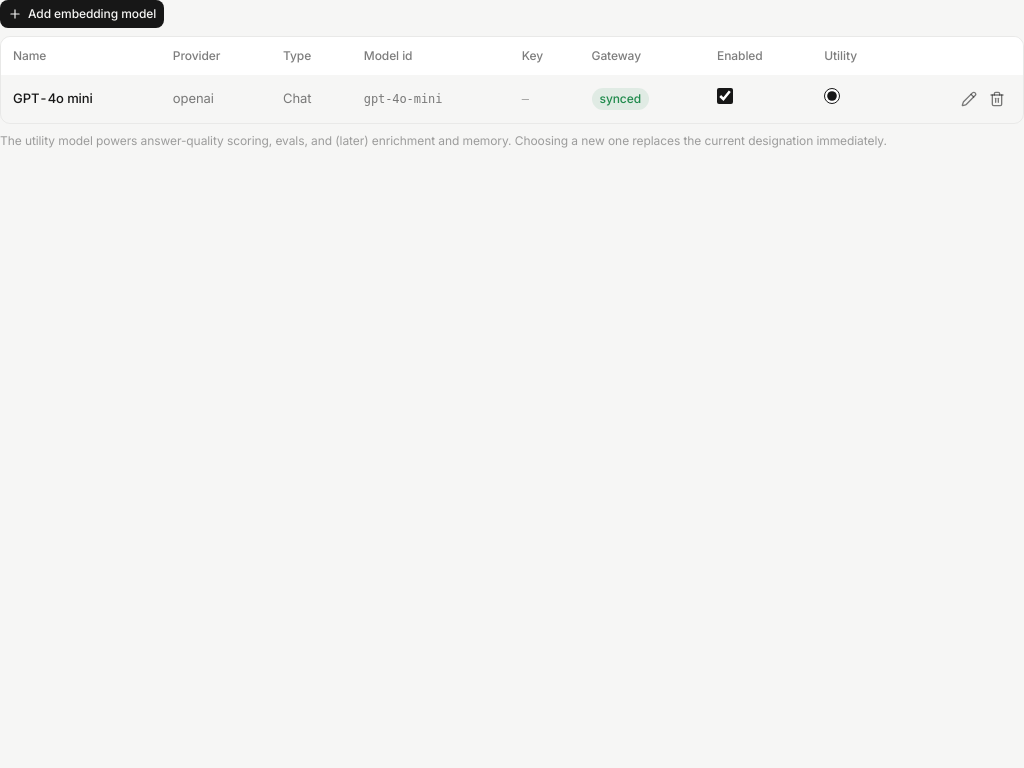
Scenario: adding from the chat registry still starts on Chat
Click the button "Add embedding model" at (82, 14), box [0, 0, 164, 28]
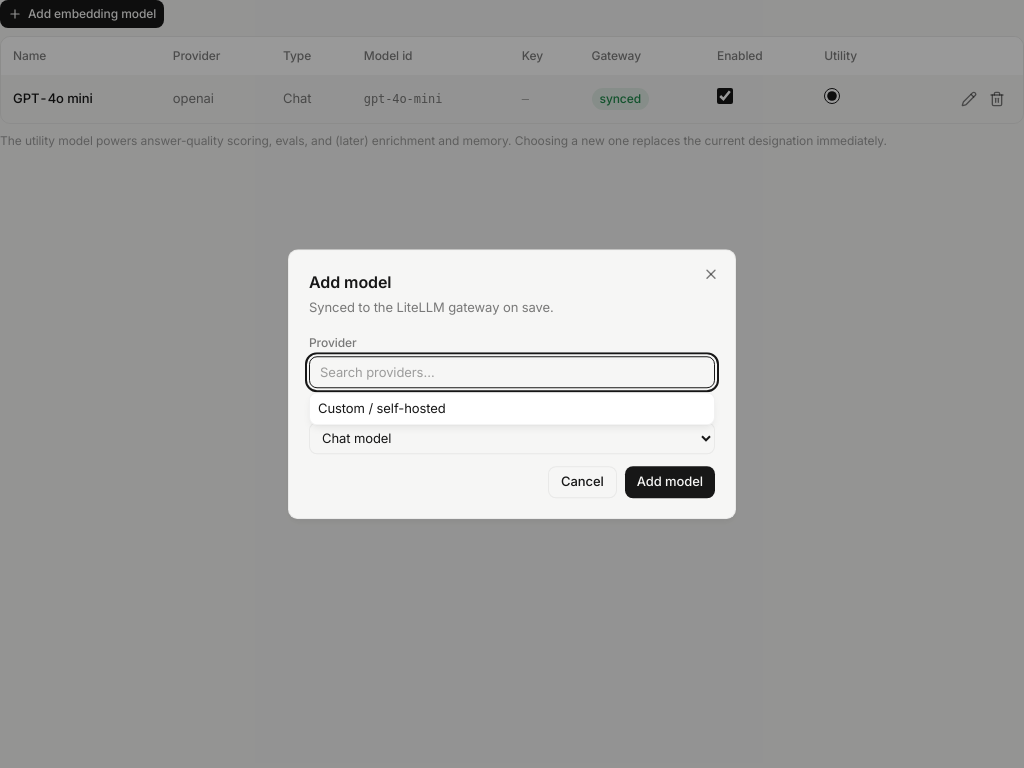
Now the dropdown labelled "Type" shows "Chat model", box [309, 422, 715, 454]
